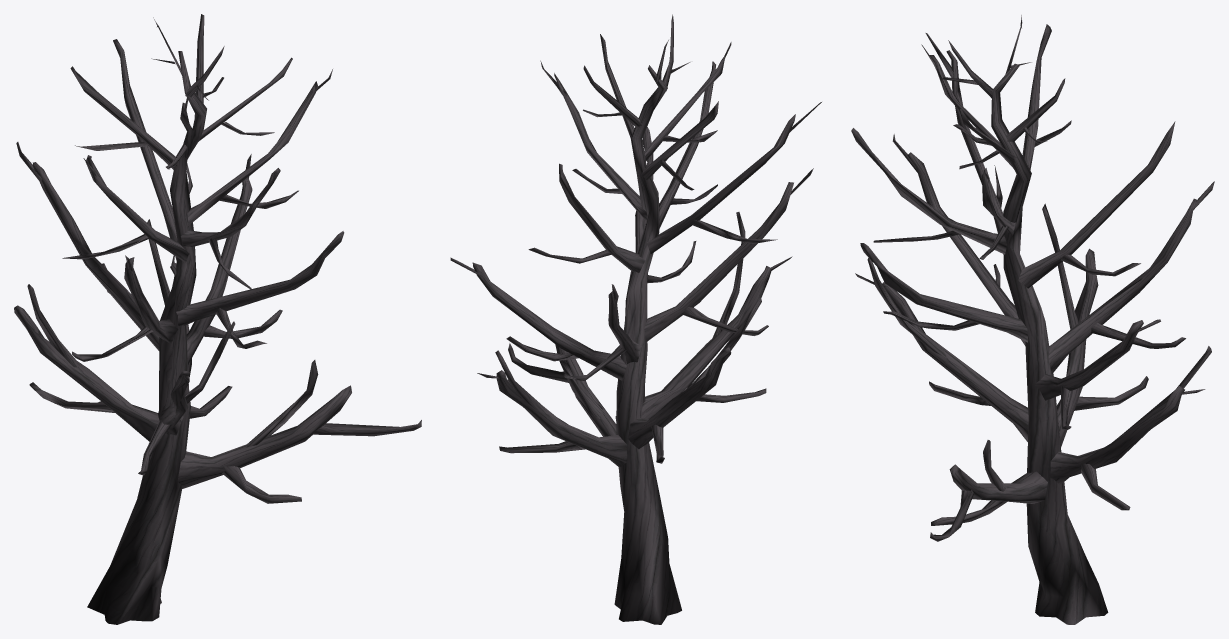
Rendered from dead-tree-2.glb.
The picture shows the model from 3 angles, left to right: view 1: azimuth 30°, elevation 25°; view 2: azimuth 150°, elevation 25°; view 3: azimuth 270°, elevation 25°; orthographic projection. The views are drawn at different scales.
Parts seen in each view (by area): view 1: DeadTree_2; view 2: DeadTree_2; view 3: DeadTree_2.
Part boxes in pixels (box(x1,y1,x2,y2)): DeadTree_2: box(14, 14, 421, 624); DeadTree_2: box(450, 14, 821, 624); DeadTree_2: box(851, 15, 1214, 624).
Bounding box in the file's own units: 6.7 × 11.48 × 6.36.
1 material, 1 textured.
